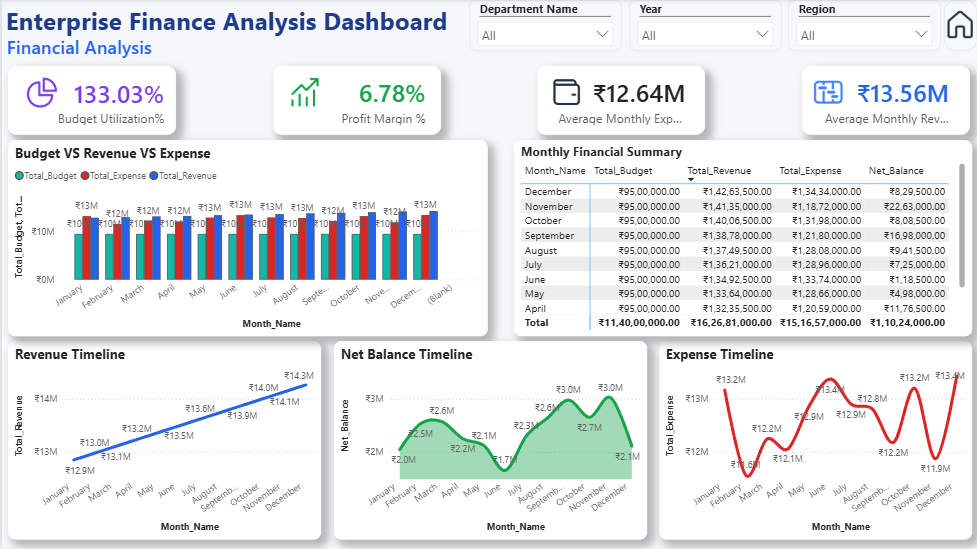

What the dashboard file says about the page in this screenshot:
{"tool":"powerbi","page":{"name":"Financial Analysis","canvas":[1280,720],"ordinal":3},"visuals":[{"type":"textbox","box":[0,0,693.3,70],"z":0},{"type":"shape","box":[1232.3,1.1,43.3,66.7],"z":0,"group":"g1"},{"type":"image","box":[1229,12.2,50,44.4],"z":1000,"group":"g1"},{"type":"cardVisual","fields":{"Data":["revenue.Average Monthly Revenue"]},"box":[1046.7,88.3,220,90],"z":1000},{"type":"cardVisual","fields":{"Data":["budget.Budget_Utilization%"]},"box":[8.3,88.3,220,90],"z":2000},{"type":"cardVisual","fields":{"Data":["revenue.Profit Margin %"]},"box":[354.4,88.2,220,90],"z":3000},{"type":"cardVisual","fields":{"Data":["expense.Average Monthly Expense"]},"box":[700.6,88.2,220,90],"z":4000},{"type":"textbox","box":[1.7,40,260,41.7],"z":5000},{"type":"lineChart","title":"Revenue Timeline","fields":{"Y":["revenue.Total_Revenue"],"Category":["calendar.Month_Name"]},"box":[8.3,448.3,410,260],"z":6000},{"type":"lineChart","title":"Expense Timeline","fields":{"Category":["calendar.Month_Name"],"Y":["expense.Total_Expense"]},"box":[860,448.3,410,260],"z":7000},{"type":"pivotTable","title":"Monthly Financial Summary","fields":{"Values":["budget.Total_Budget","revenue.Total_Revenue","expense.Total_Expense","revenue.Net_Balance"],"Rows":["calendar.Month_Name"]},"box":[670,185,600,256.7],"z":8000},{"type":"clusteredColumnChart","title":"Budget VS Revenue VS Expense","fields":{"Category":["calendar.Month_Name"],"Y":["budget.Total_Budget","expense.Total_Expense","revenue.Total_Revenue"]},"box":[8.3,185,628.3,256.7],"z":9000},{"type":"areaChart","title":"Net Balance Timeline ","fields":{"Category":["calendar.Month_Name"],"Y":["revenue.Net_Balance"]},"box":[434.2,448.3,410,260],"z":10000},{"type":"slicer","fields":{"Values":["calendar.Year"]},"box":[821.1,1.1,200,66.7],"z":13000},{"type":"image","box":[21.6,99.4,60.5,46.1],"z":14000},{"type":"image","box":[365.1,99.4,60.5,44.6],"z":15000},{"type":"image","box":[708.6,99.4,60,45],"z":16000},{"type":"image","box":[1051.7,99.4,60,45],"z":17000},{"type":"slicer","fields":{"Values":["region.Region_Name"]},"box":[611.1,1.1,200,66.7],"z":17001},{"type":"slicer","fields":{"Values":["region.Region_Name"]},"box":[1028.9,1.1,200,66.7],"z":17002},{"type":"group","id":"g1","title":"Group 1","box":[1229,1.1,50,66.7],"z":18000}]}

Visuals, with their boxes in screenshot pixels (x1, y1, x2, y2), scaled from the page's 1280x720 canvas onto the 977x549 screenshot:
textbox: (0,0,529,53)
shape: (941,1,974,52)
image: (938,9,976,43)
cardVisual - revenue.Average Monthly Revenue: (799,67,967,136)
cardVisual - budget.Budget_Utilization%: (6,67,174,136)
cardVisual - revenue.Profit Margin %: (271,67,438,136)
cardVisual - expense.Average Monthly Expense: (535,67,703,136)
textbox: (1,30,200,62)
"Revenue Timeline" lineChart: (6,342,319,540)
"Expense Timeline" lineChart: (656,342,969,540)
"Monthly Financial Summary" pivotTable: (511,141,969,337)
"Budget VS Revenue VS Expense" clusteredColumnChart: (6,141,486,337)
"Net Balance Timeline " areaChart: (331,342,644,540)
slicer - calendar.Year: (627,1,779,52)
image: (16,76,63,111)
image: (279,76,325,110)
image: (541,76,587,110)
image: (803,76,849,110)
slicer - region.Region_Name: (466,1,619,52)
slicer - region.Region_Name: (785,1,938,52)
"Group 1" group: (938,1,976,52)
